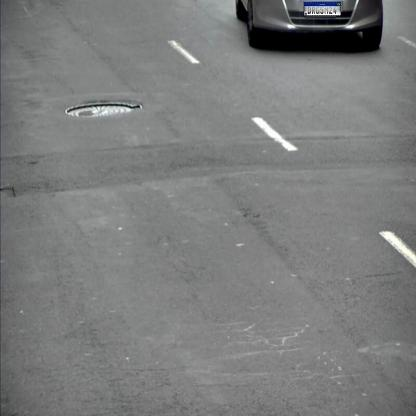PlacaM: (304, 2, 341, 16)
